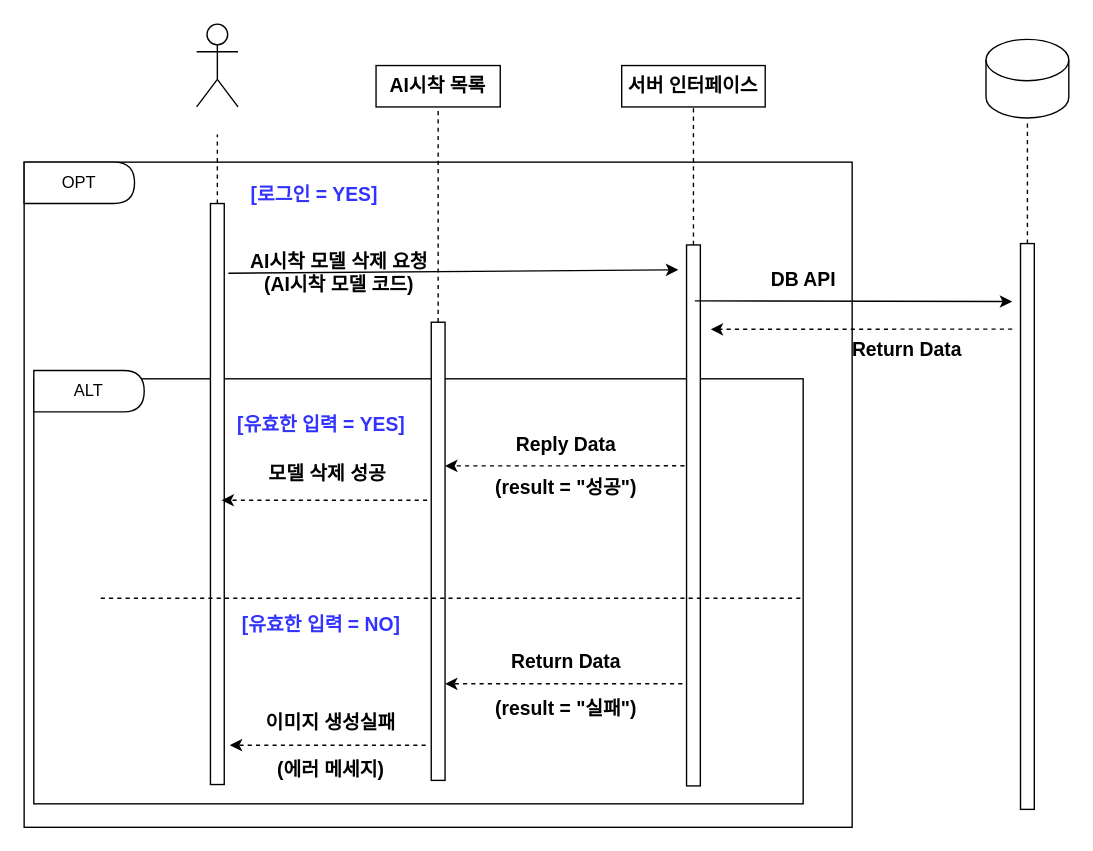
Some shapes in this 1093 by 851 pixel diagram are drawn without their labels. The shapes that lost their labels are listed below. From the top down, each one's centre as x and y in pixels, then its label:
At point 216,65: "구매자".
At point 1027,78: "Server DB".
